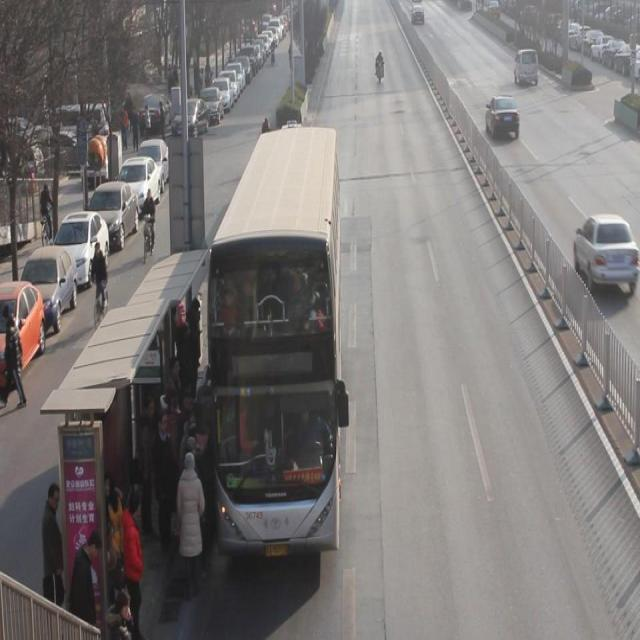car: (573, 215, 631, 298), (485, 96, 520, 142), (410, 1, 425, 26)
truck: (514, 48, 538, 88)
van: (204, 127, 340, 551)
